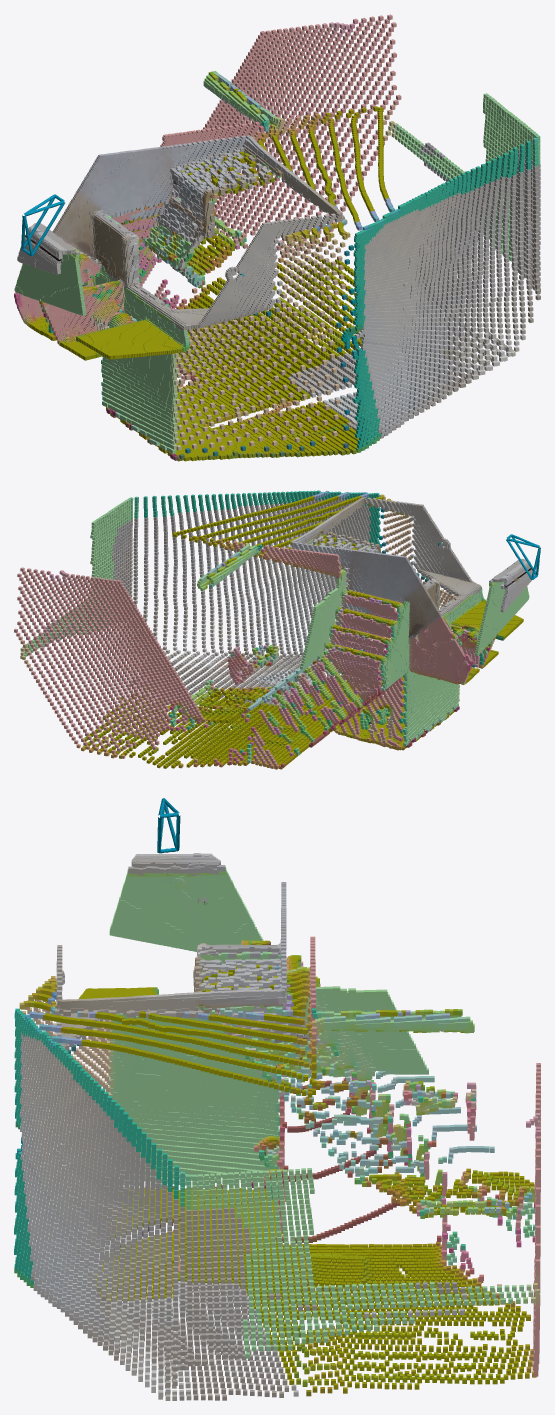
3 views of the same model, one above another, from view 1: azimuth 30°, elevation 25°; view 2: azimuth 150°, elevation 25°; view 3: azimuth 270°, elevation 25° (orthographic). The views are drawn at different scales.
Bounding box in the file's own units: 7.89 × 3.97 × 5.6.
